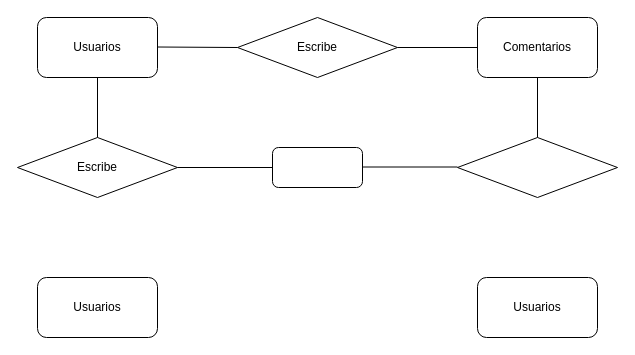
The diagram is 635 pixels wide and 355 high, and some of its shapes have lost their labels. The shapes that lost their labels are listed below. From the top down, each one's box as (x1, y1, x2, y2) in pixels, then its label:
(272, 146, 362, 188): post
(456, 136, 618, 198): tiene
